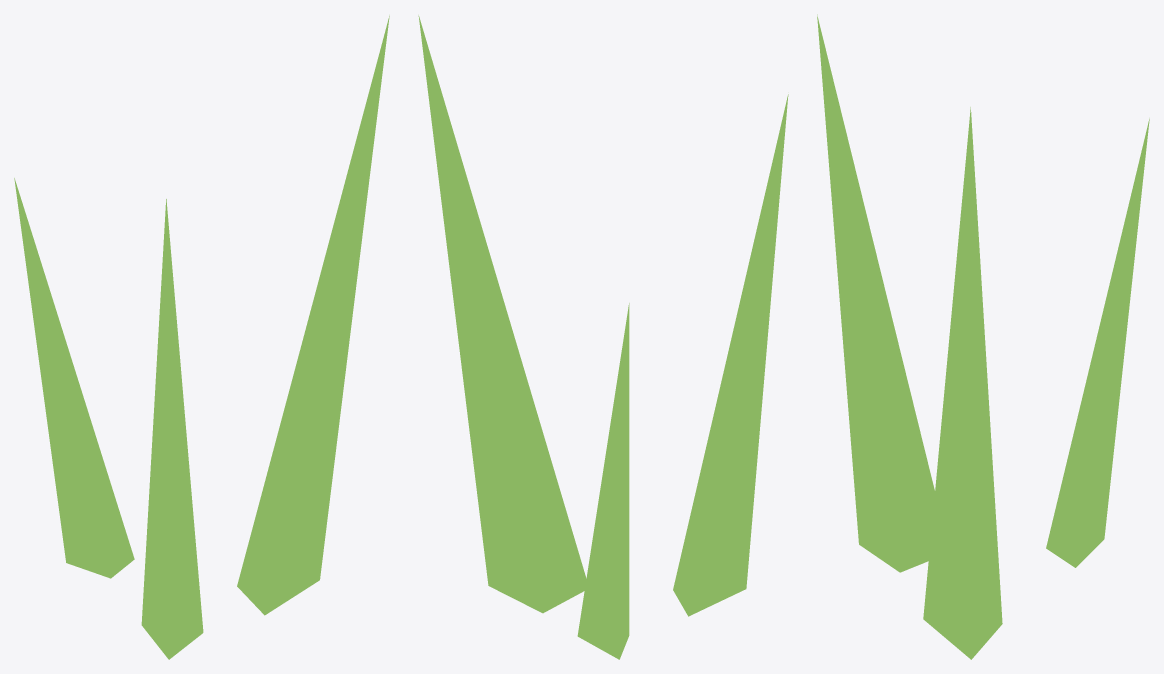
File: Grass3D_a_02.fbx
3 renders of one model, left to right at view 1: azimuth 30°, elevation 25°; view 2: azimuth 150°, elevation 25°; view 3: azimuth 270°, elevation 25°, orthographic. The views are drawn at different scales.
Parts seen in each view (by area): view 1: Grass3D_a_02; view 2: Grass3D_a_02; view 3: Grass3D_a_02.
Part boxes in pixels (box(x1,y1,x2,y2)): Grass3D_a_02: box(14, 15, 389, 659); Grass3D_a_02: box(418, 15, 788, 659); Grass3D_a_02: box(817, 14, 1149, 659).
Size of the model in its own units: 0.2582 by 0.4594 by 0.2348.
